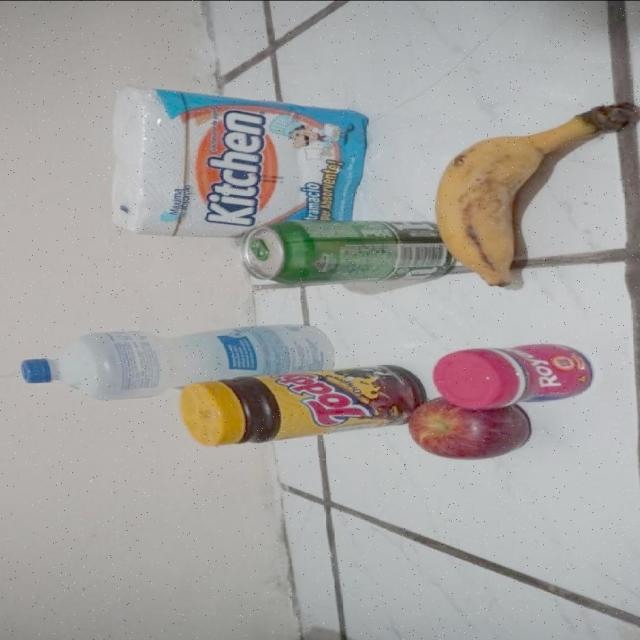AlcoholBottle: (21, 322, 333, 400)
Apple: (409, 394, 532, 460)
Banana: (437, 98, 640, 290)
BeerCan: (240, 220, 456, 284)
ChocolatePowder: (179, 364, 427, 447)
Napkin: (109, 86, 369, 235)
Yeast: (434, 340, 594, 406)
